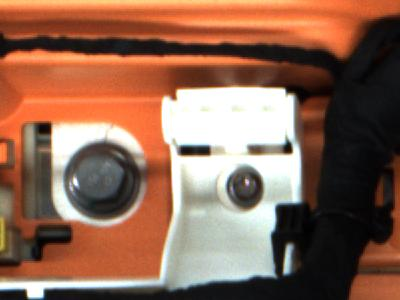nut_b: (59, 139, 145, 219)
